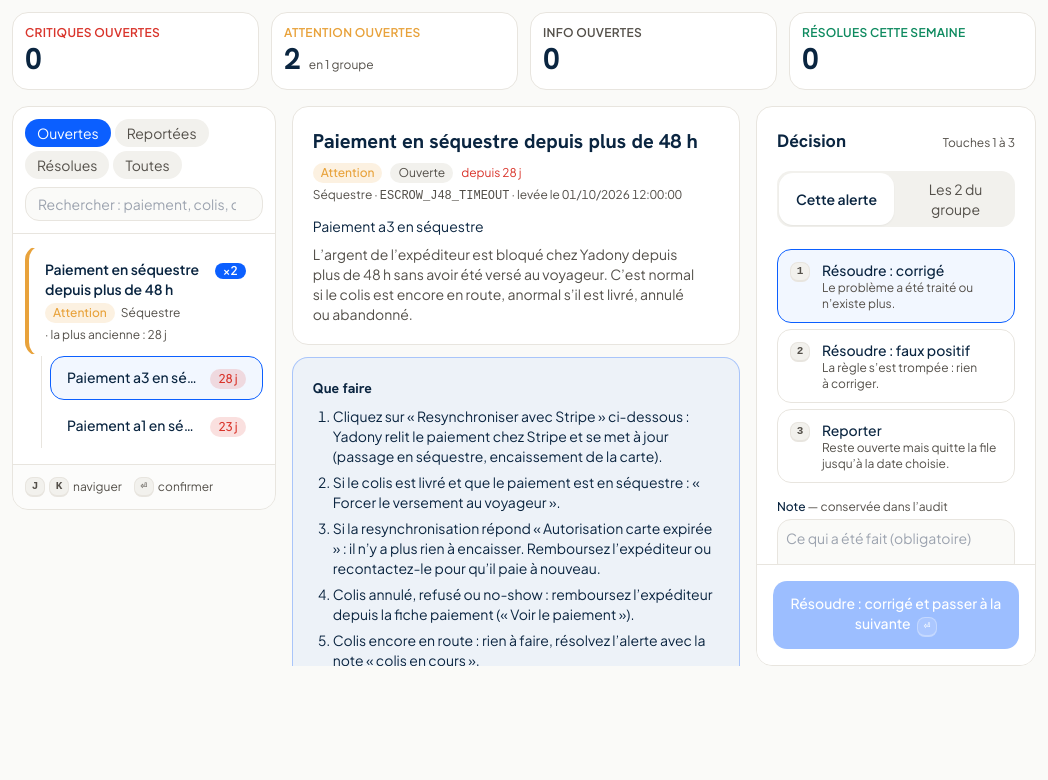
Test: pages/alertes › résolution de groupe partielle : les refusées restent ouvertes et sont annoncées
Click the button with test id "scope-group": x=956, y=199 [898,173,1013,225]
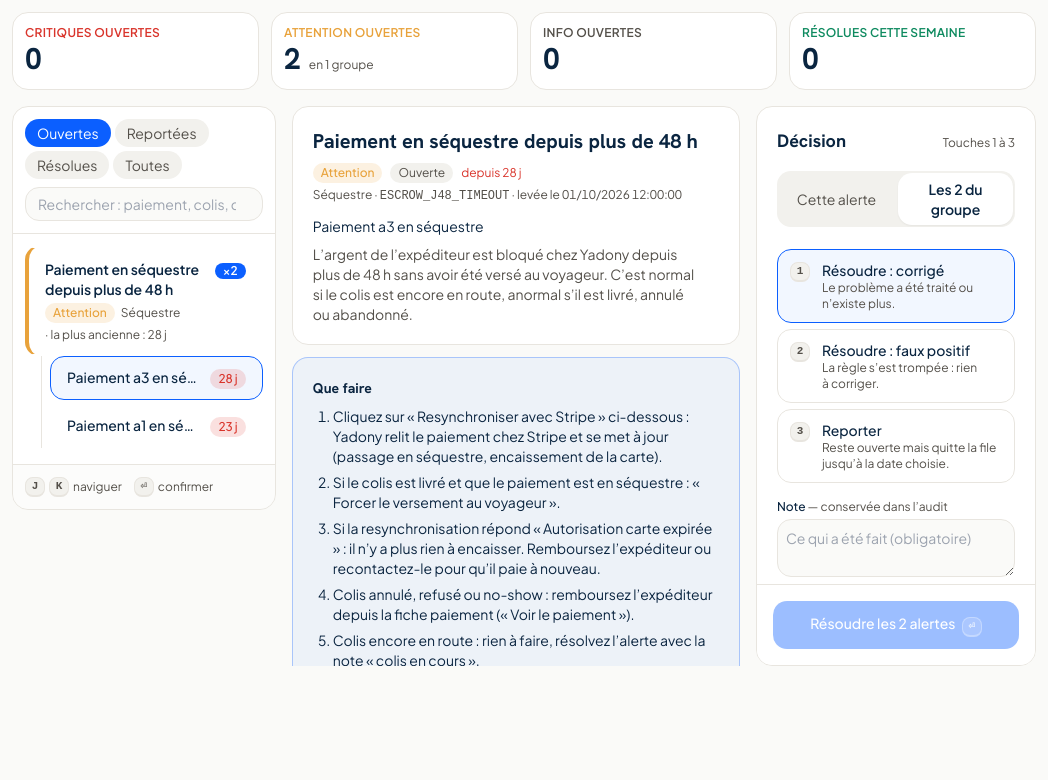
In the text box with test id "alert-note": x=896, y=548 [777,519,1015,577], type "Versement forcé"
(page scrolled)
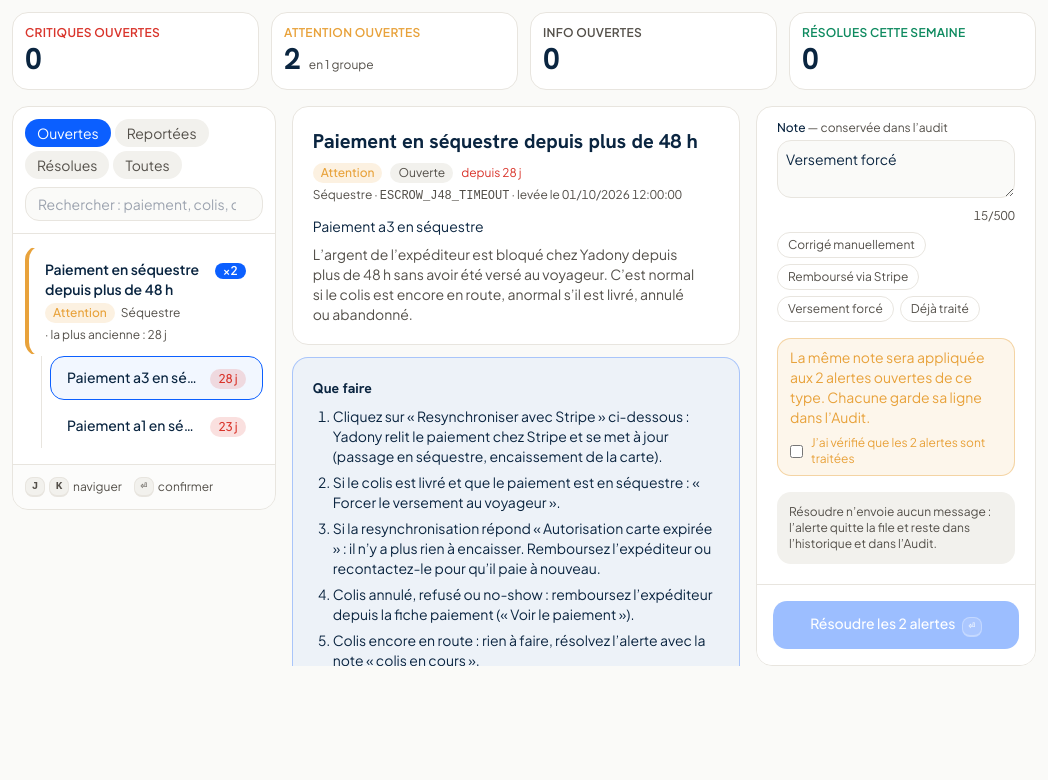
Click the checkbox with test id "alert-acknowledge": x=796, y=451 [790,444,803,458]
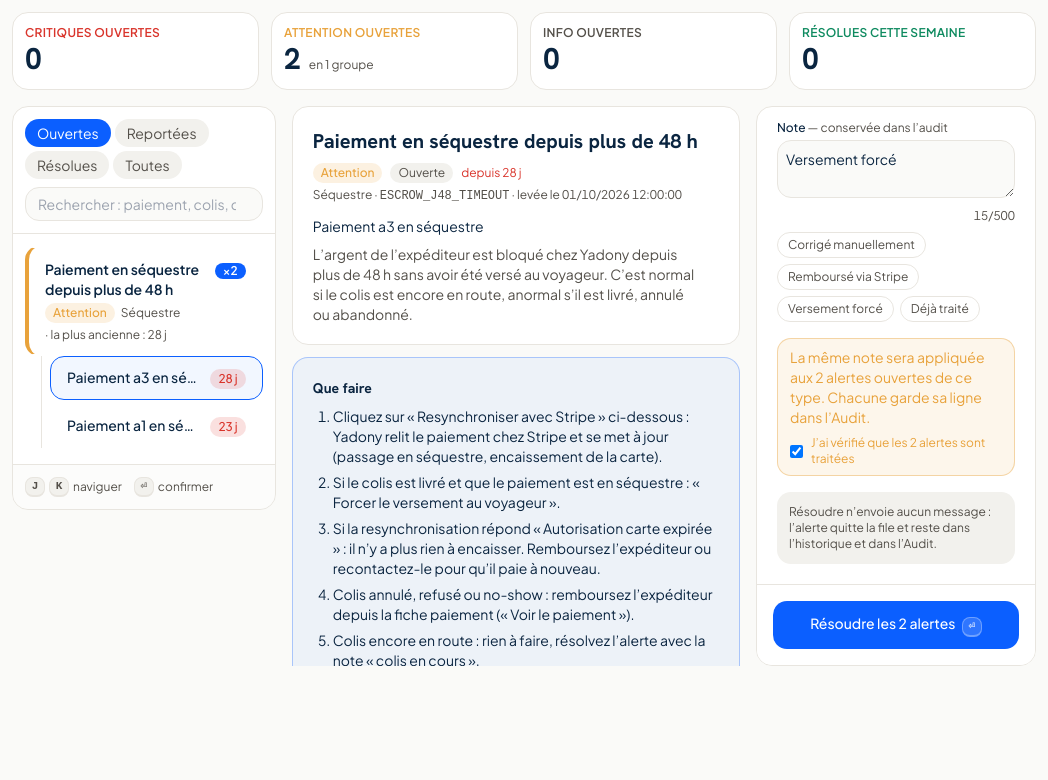
Click the button with test id "alert-confirm": x=896, y=625 [773,601,1019,649]
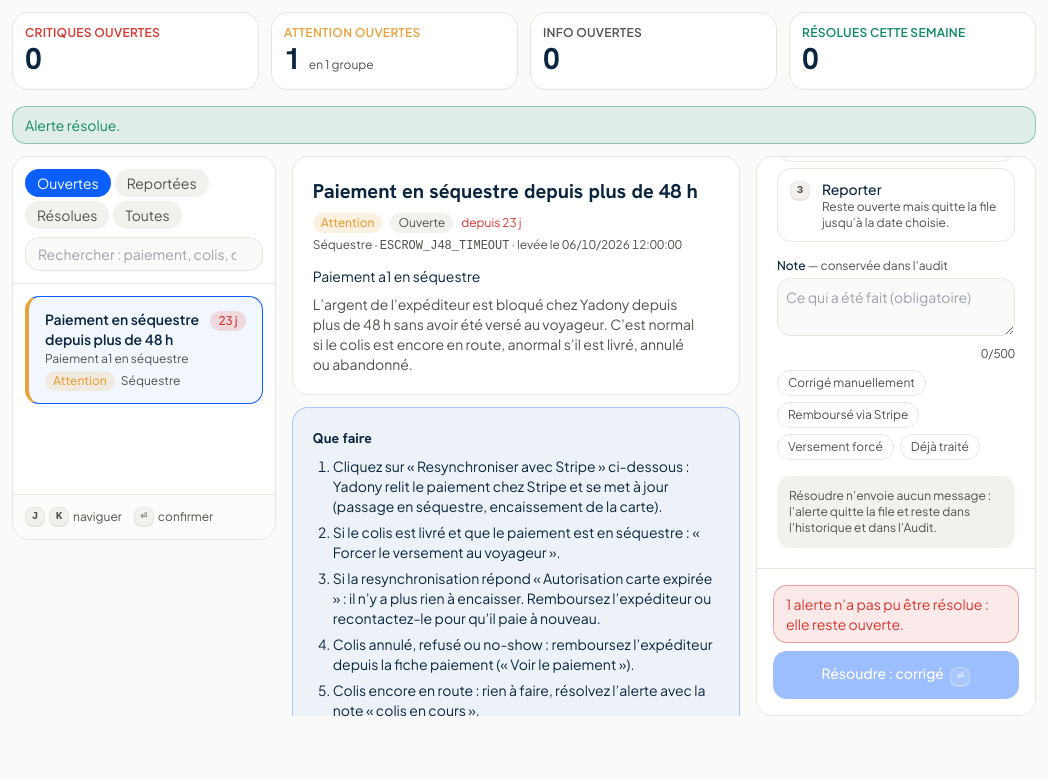
Result: the message with test id "alert-error" reads "1 alerte n’a pas pu être résolue : elle reste ouverte." at [786,595,989,633]
Result: the element with test id "alert-row-a1" is shown at [25,296,263,404]
